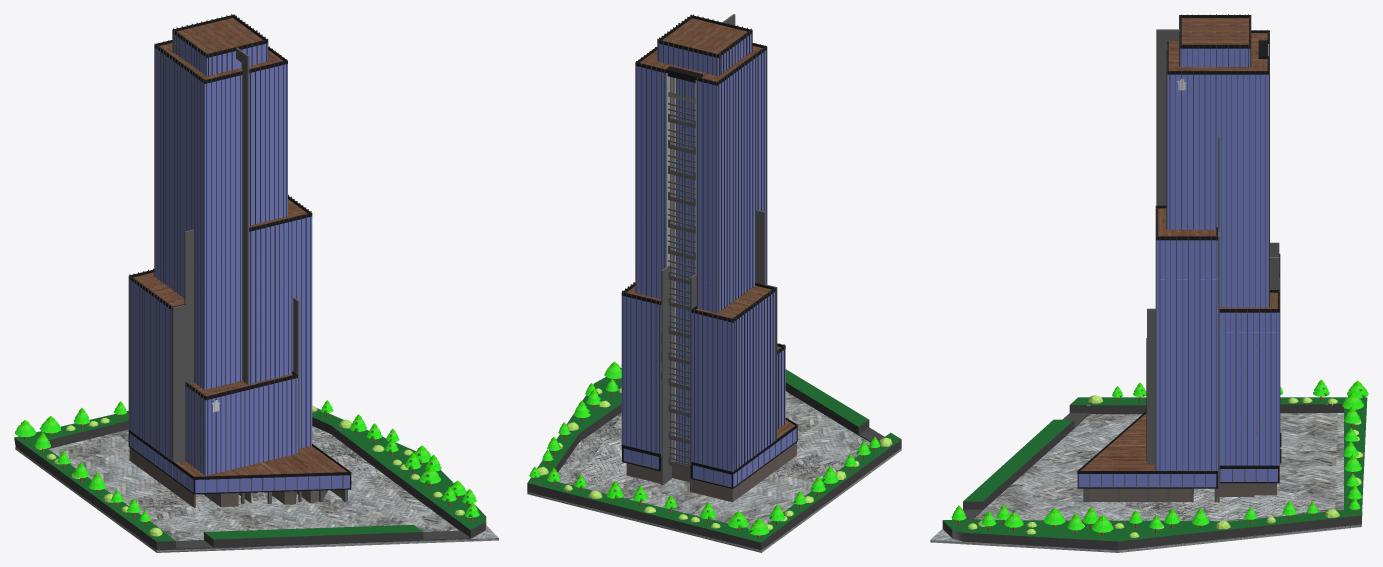
Rendered from Titanium_Tower.glb.
3 renders of one model, left to right at view 1: azimuth 30°, elevation 25°; view 2: azimuth 150°, elevation 25°; view 3: azimuth 270°, elevation 25°, orthographic. The views are drawn at different scales.
Parts seen in each view (by area): view 1: baseAfter, grasscoloumn, Bush01.004, Cube.4452, Cube.4554, Cube.4565, Cube.4518, Cube.4511, Cube.4411, Cube.4409, Cube.182, Cube.4246 (+30 smaller); view 2: baseAfter, grasscoloumn, Cube.4452, Cube.4565, Bush01.004, Cube.012, Cube.024, Cube.002, Cube.4412, Cube.4246, Cube.4554, Cube.018 (+37 smaller); view 3: baseAfter, grasscoloumn, Bush01.004, Cube.4511, Cube.4452, Cube.4565, Cube.4416, Cube.4409, Cube.182, Cube.4246, Cube.4408, Cube.055 (+29 smaller).
Boxes of the visible parts, box(x1,y1,x2,y2) form: baseAfter: box(15, 426, 498, 552); grasscoloumn: box(14, 408, 486, 550); Bush01.004: box(14, 400, 479, 536); Cube.4452: box(154, 40, 192, 298); Cube.4554: box(194, 72, 240, 389); Cube.4565: box(128, 268, 172, 460); Cube.4518: box(185, 374, 296, 475); Cube.4511: box(250, 194, 311, 448); Cube.4411: box(172, 229, 193, 462); Cube.4409: box(236, 47, 249, 384); Cube.182: box(176, 445, 347, 476); Cube.4246: box(177, 18, 263, 53); baseAfter: box(527, 391, 901, 552); grasscoloumn: box(527, 369, 901, 550); Cube.4452: box(635, 47, 756, 312); Cube.4565: box(622, 282, 776, 471); Bush01.004: box(529, 361, 892, 537); Cube.012: box(666, 67, 700, 470); Cube.024: box(666, 73, 696, 463); Cube.002: box(670, 77, 694, 465); Cube.4412: box(661, 264, 671, 485); Cube.4246: box(662, 18, 747, 53); Cube.4554: box(755, 43, 767, 284); Cube.018: box(627, 442, 796, 502); baseAfter: box(930, 413, 1362, 552); grasscoloumn: box(942, 397, 1367, 550); Bush01.004: box(951, 379, 1368, 537); Cube.4511: box(1155, 205, 1216, 471); Cube.4452: box(1221, 29, 1269, 307); Cube.4565: box(1225, 253, 1280, 465); Cube.4416: box(1166, 50, 1216, 229); Cube.4409: box(1156, 29, 1180, 205); Cube.182: box(1080, 413, 1256, 470); Cube.4246: box(1181, 18, 1248, 44); Cube.4408: box(1147, 308, 1155, 463); Cube.055: box(1090, 474, 1193, 487).
Size of what is drawn, in the model's own units: 12.63 by 17.98 by 16.08.
18 materials, 4 textured.
